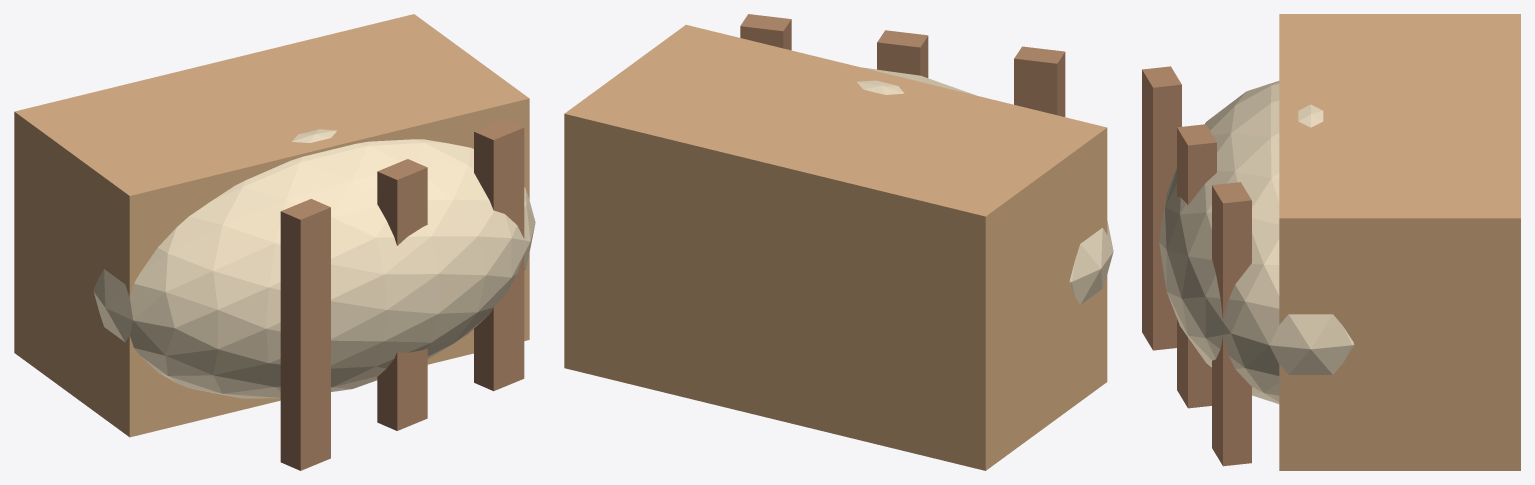
The model's file is bread-4180.glb.
3 renders of one model, left to right at view 1: azimuth 30°, elevation 25°; view 2: azimuth 150°, elevation 25°; view 3: azimuth 270°, elevation 25°, orthographic. The views are drawn at different scales.
Parts seen in each view (by area): view 1: loaf, top, score0, score2, score1; view 2: loaf, score0, top, score1, score2; view 3: loaf, top, score0, score2, score1.
Boxes of the visible parts, bbox=[...] form: loaf: bbox=[14, 14, 529, 437]; top: bbox=[93, 129, 535, 398]; score0: bbox=[280, 199, 330, 470]; score2: bbox=[474, 119, 524, 391]; score1: bbox=[377, 159, 427, 430]; loaf: bbox=[564, 25, 1107, 470]; score0: bbox=[1014, 46, 1065, 116]; top: bbox=[857, 67, 1113, 304]; score1: bbox=[877, 30, 928, 77]; score2: bbox=[740, 14, 791, 50]; loaf: bbox=[1279, 14, 1520, 470]; top: bbox=[1159, 81, 1354, 403]; score0: bbox=[1142, 66, 1181, 350]; score2: bbox=[1212, 182, 1251, 466]; score1: bbox=[1177, 124, 1216, 408].
Size of the model in its own units: 2.7 by 1.57 by 2.02.
